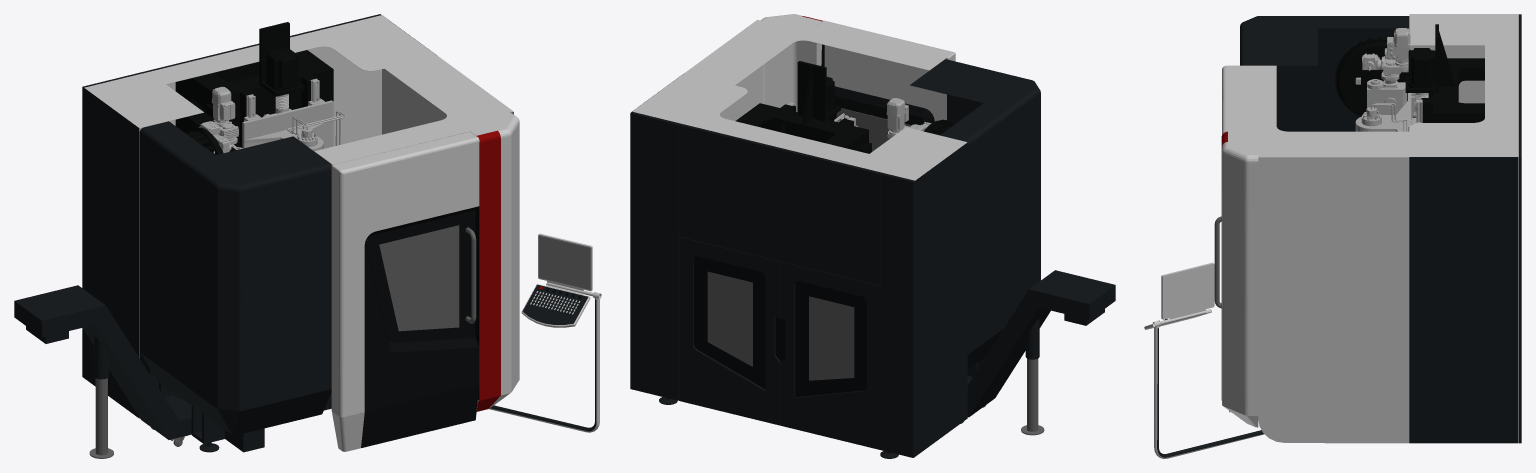
The model's file is CNC Machine.obj.
3 renders of one model, left to right at view 1: azimuth 30°, elevation 25°; view 2: azimuth 150°, elevation 25°; view 3: azimuth 270°, elevation 25°, orthographic. The views are drawn at different scales.
Visible parts, largest first — view 1: CNC_Machine_with_Doors_mesh76, CNC_Machine_with_Doors_mesh106_2, CNC_Machine_with_Doors_mesh72, CNC_Machine_with_Doors_mesh106, CNC_Machine_with_Doors_mesh179, CNC_Machine_with_Doors_mesh83, CNC_Machine_with_Doors_mesh78, CNC_Machine_with_Doors_mesh103, CNC_Machine_with_Doors_mesh135, CNC_Machine_with_Doors_mesh110, CNC_Machine_with_Doors_mesh80, CNC_Machine_with_Doors_mesh77_1 (+11 smaller); view 2: CNC_Machine_with_Doors_mesh132, CNC_Machine_with_Doors_mesh76, CNC_Machine_with_Doors_mesh106_2, CNC_Machine_with_Doors_mesh106, CNC_Machine_with_Doors_mesh101, CNC_Machine_with_Doors_mesh85, CNC_Machine_with_Doors_mesh132_1, CNC_Machine_with_Doors_mesh132_2, CNC_Machine_with_Doors_mesh179, CNC_Machine_with_Doors_mesh103, CNC_Machine_with_Doors_mesh72, CNC_Machine_with_Doors_mesh77_1 (+5 smaller); view 3: CNC_Machine_with_Doors_mesh106_2, CNC_Machine_with_Doors_mesh74, CNC_Machine_with_Doors_mesh76, CNC_Machine_with_Doors_mesh88_2, CNC_Machine_with_Doors_mesh103, CNC_Machine_with_Doors_mesh91, CNC_Machine_with_Doors_mesh101, CNC_Machine_with_Doors_mesh72, CNC_Machine_with_Doors_mesh44, CNC_Machine_with_Doors_mesh37, CNC_Machine_with_Doors_mesh41, CNC_Machine_with_Doors_mesh124 (+5 smaller).
Part boxes in pixels (x1,y1,x2,y2): CNC_Machine_with_Doors_mesh76: (139, 121, 331, 434); CNC_Machine_with_Doors_mesh106_2: (84, 15, 519, 418); CNC_Machine_with_Doors_mesh72: (331, 131, 479, 451); CNC_Machine_with_Doors_mesh106: (84, 88, 139, 418); CNC_Machine_with_Doors_mesh179: (14, 285, 191, 439); CNC_Machine_with_Doors_mesh83: (364, 244, 479, 411); CNC_Machine_with_Doors_mesh78: (379, 225, 459, 331); CNC_Machine_with_Doors_mesh103: (175, 22, 333, 147); CNC_Machine_with_Doors_mesh135: (477, 130, 500, 400); CNC_Machine_with_Doors_mesh110: (367, 210, 475, 342); CNC_Machine_with_Doors_mesh80: (361, 384, 479, 447); CNC_Machine_with_Doors_mesh77_1: (353, 192, 479, 449); CNC_Machine_with_Doors_mesh132: (678, 124, 881, 449); CNC_Machine_with_Doors_mesh76: (910, 59, 1040, 369); CNC_Machine_with_Doors_mesh106_2: (632, 14, 967, 180); CNC_Machine_with_Doors_mesh106: (632, 111, 967, 456); CNC_Machine_with_Doors_mesh101: (630, 112, 678, 400); CNC_Machine_with_Doors_mesh85: (881, 173, 914, 457); CNC_Machine_with_Doors_mesh132_1: (694, 256, 866, 397); CNC_Machine_with_Doors_mesh132_2: (707, 271, 854, 380); CNC_Machine_with_Doors_mesh179: (967, 270, 1115, 417); CNC_Machine_with_Doors_mesh103: (735, 61, 868, 151); CNC_Machine_with_Doors_mesh72: (816, 20, 955, 119); CNC_Machine_with_Doors_mesh77_1: (826, 71, 941, 121); CNC_Machine_with_Doors_mesh106_2: (1222, 14, 1518, 443); CNC_Machine_with_Doors_mesh74: (1409, 157, 1518, 443); CNC_Machine_with_Doors_mesh76: (1240, 16, 1409, 131); CNC_Machine_with_Doors_mesh88_2: (1144, 262, 1264, 458); CNC_Machine_with_Doors_mesh103: (1405, 24, 1484, 122); CNC_Machine_with_Doors_mesh91: (1335, 39, 1410, 116); CNC_Machine_with_Doors_mesh101: (1518, 133, 1521, 443); CNC_Machine_with_Doors_mesh72: (1222, 65, 1239, 134); CNC_Machine_with_Doors_mesh44: (1408, 48, 1435, 88); CNC_Machine_with_Doors_mesh37: (1382, 28, 1410, 78); CNC_Machine_with_Doors_mesh41: (1367, 81, 1407, 114); CNC_Machine_with_Doors_mesh124: (1355, 93, 1411, 131).
Size of the model in its own units: 4.33 by 3.21 by 3.12.
